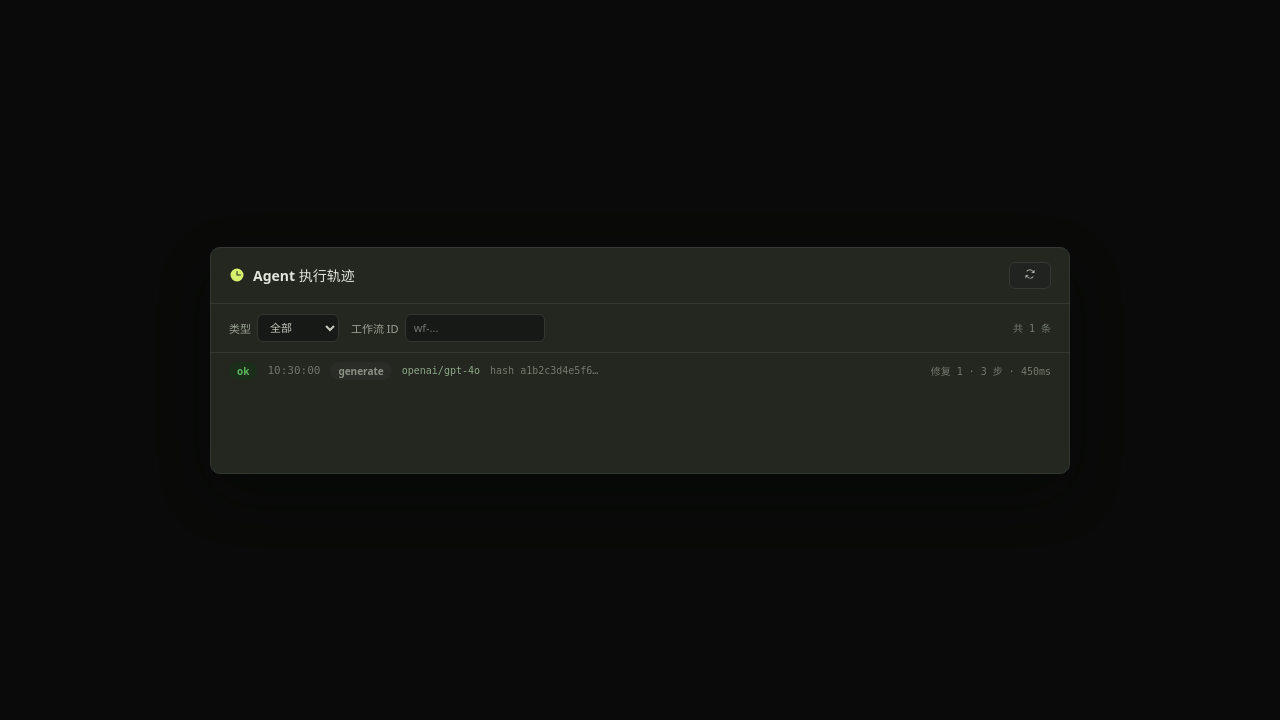
AgentTracePanel › expands step detail on click and shows detail JSON
The image size is (1280, 720).
Click the button with aria-label "轨迹 trc-1" at point(294, 370), box [211,352,1069,388]
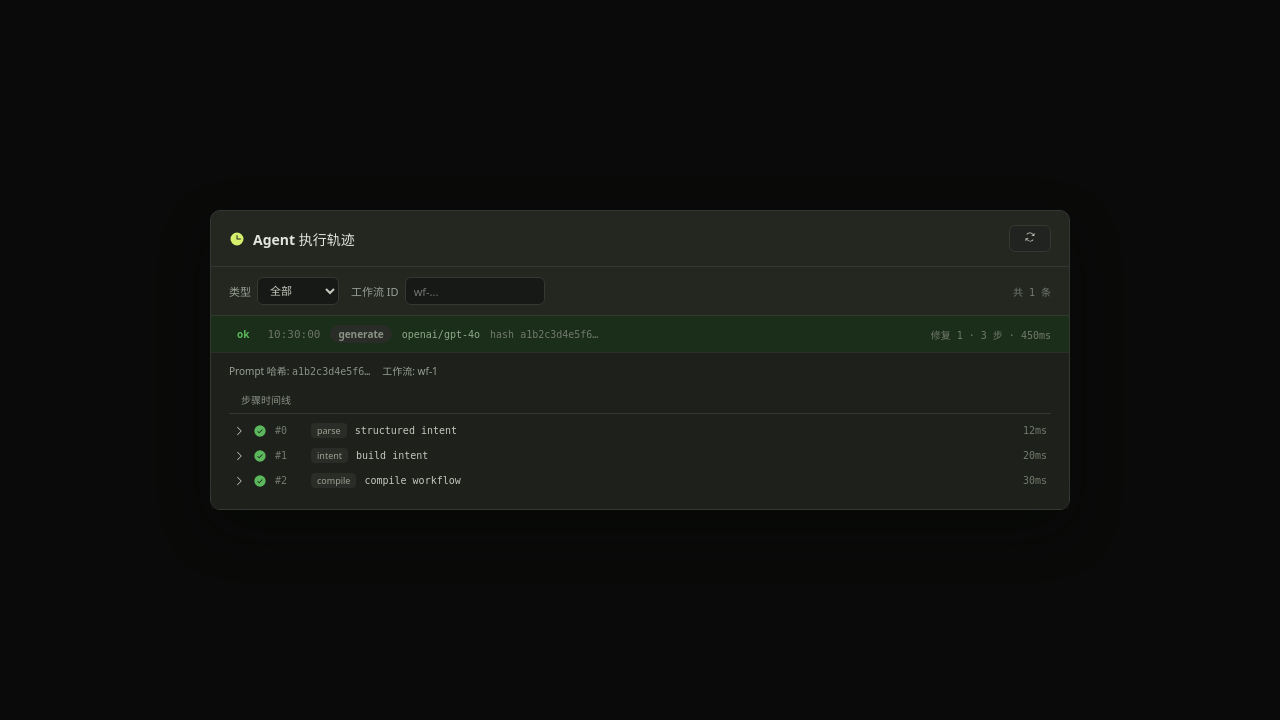
Expected: the text "structured_intent" is shown, [355,425,457,436]
Click the button "#0 parse structured_intent 12ms" at point(329, 430), box [229,418,1051,443]
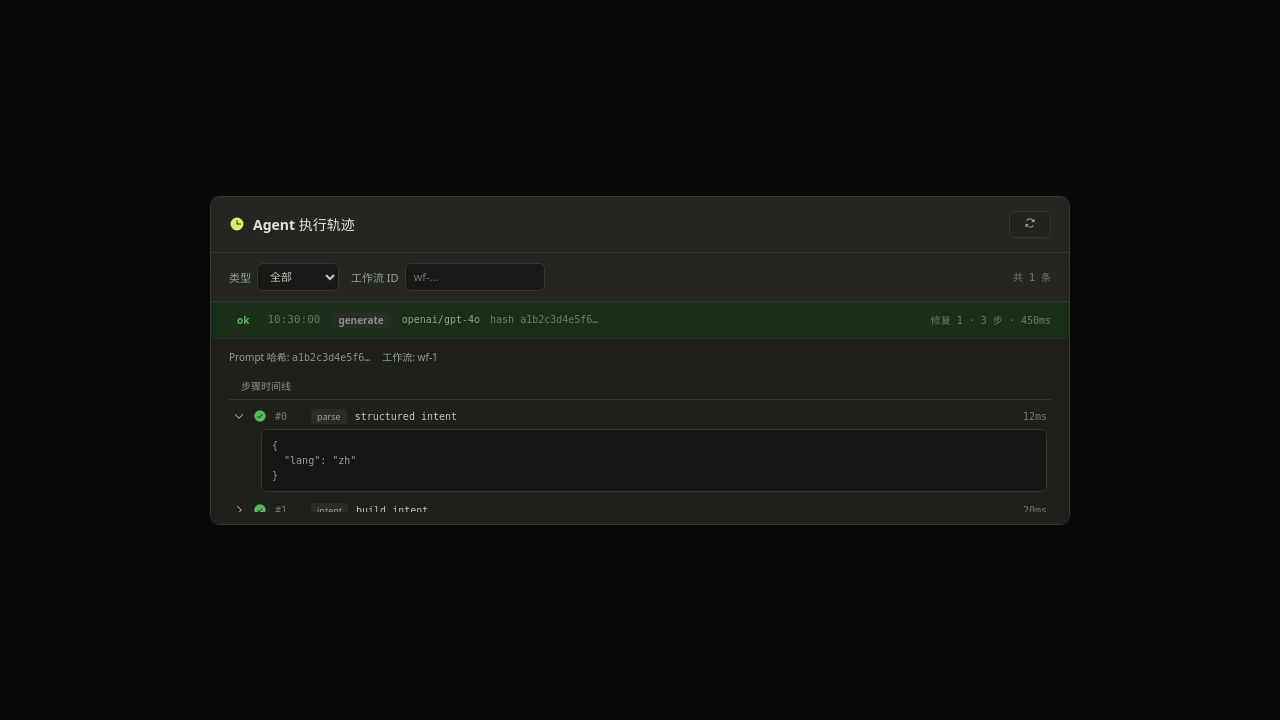
Expected: the text with test id "step-detail" shows "lang", [272,440,356,480]
Expected: the text with test id "step-detail" shows "zh", [272,440,356,480]
